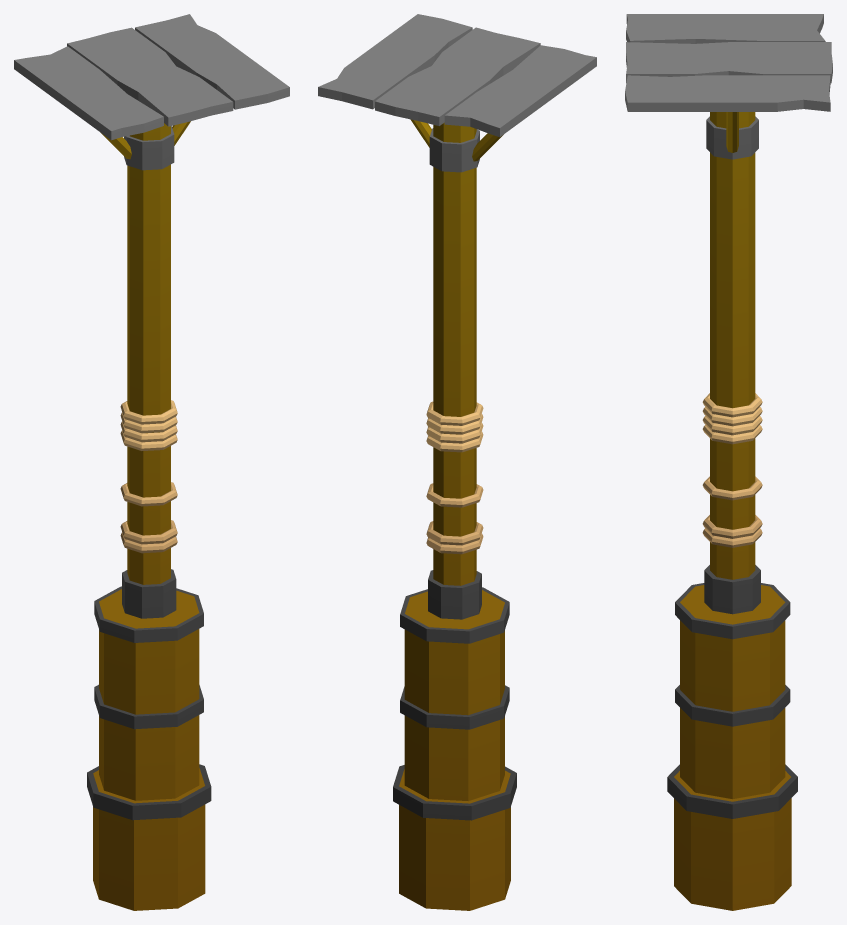
File: wooden-post.glb
3 renders of one model, left to right at view 1: azimuth 30°, elevation 25°; view 2: azimuth 150°, elevation 25°; view 3: azimuth 270°, elevation 25°, orthographic.
Visible parts, largest first — view 1: wooden post; view 2: wooden post; view 3: wooden post.
Part boxes in pixels (box(x1,y1,x2,y2)): wooden post: box(14, 14, 289, 910); wooden post: box(318, 14, 596, 910); wooden post: box(625, 14, 832, 910).
Size of the model in its own units: 2.23 by 9.71 by 2.21.
1 material, 1 textured.
